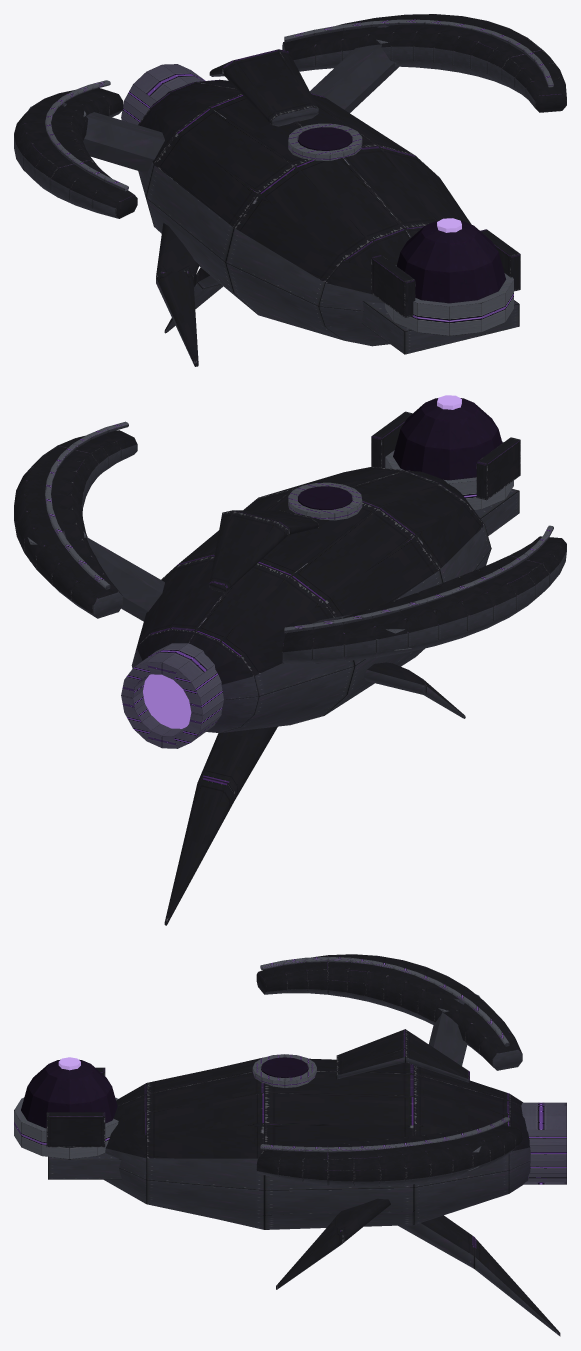
Rendered from pioneer-eris-l04-shield.glb.
3 views of the same model, one above another, from view 1: azimuth 30°, elevation 25°; view 2: azimuth 150°, elevation 25°; view 3: azimuth 270°, elevation 25° (orthographic). The views are drawn at different scales.
Parts seen in each view (by area): view 1: Drone; view 2: Drone; view 3: Drone.
Boxes of the visible parts, x1,y1,x2,y2 form: Drone: (14,14,566,366); Drone: (14,395,566,925); Drone: (14,954,566,1336).
Size of the model in its own units: 1.16 by 0.762 by 1.28.
3 materials, 3 textured.
